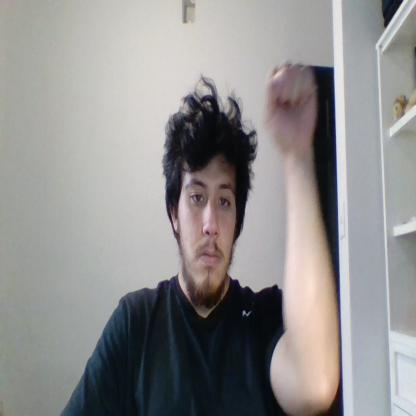S: (262, 60, 316, 150)
